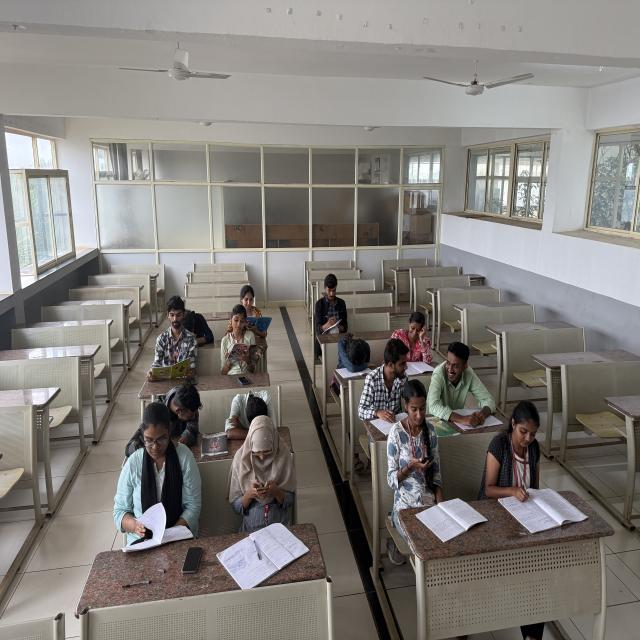Reading: (112, 398, 198, 553), (146, 297, 205, 384), (218, 302, 264, 367), (232, 279, 274, 337), (395, 310, 433, 364)
Sleeping: (118, 382, 205, 452), (219, 387, 281, 435), (332, 334, 374, 378), (178, 304, 218, 347)
Using Phone: (226, 412, 298, 518)
Writing: (484, 394, 572, 520), (386, 379, 442, 487), (310, 272, 349, 338)
